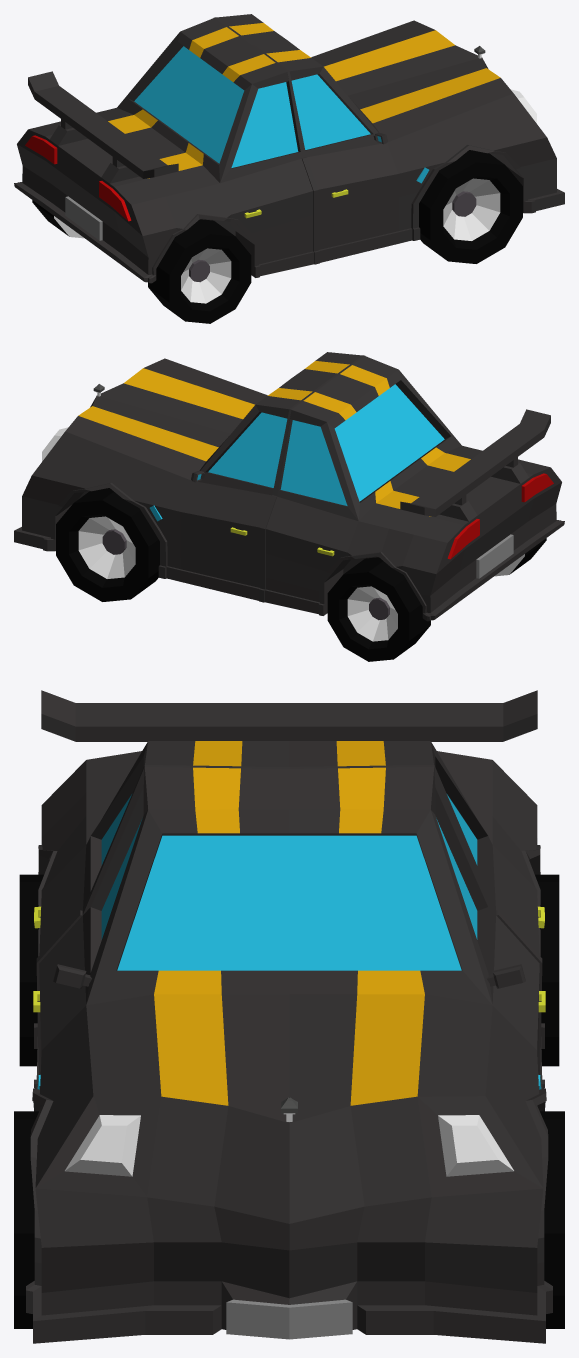
File: car .fbx
The picture shows the model from 3 angles, top to bottom: view 1: azimuth 30°, elevation 25°; view 2: azimuth 150°, elevation 25°; view 3: azimuth 270°, elevation 25°; orthographic projection. The views are drawn at different scales.
Parts seen in each view (by area): view 1: Cube.002; view 2: Cube.002; view 3: Cube.002.
Boxes of the visible parts, x1,y1,x2,y2 form: Cube.002: (14, 14, 564, 323); Cube.002: (14, 352, 564, 661); Cube.002: (14, 690, 564, 1343).
Bounding box in the file's own units: 773 × 357 × 439.
